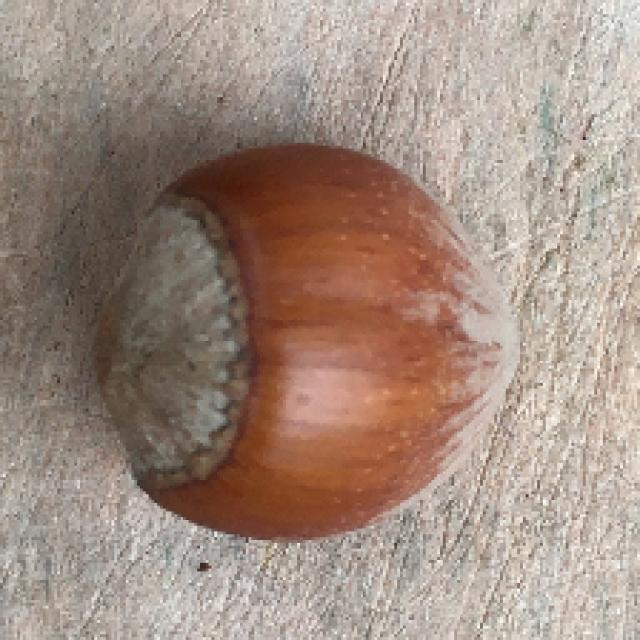qualityHazelnut: (94, 134, 531, 547)
